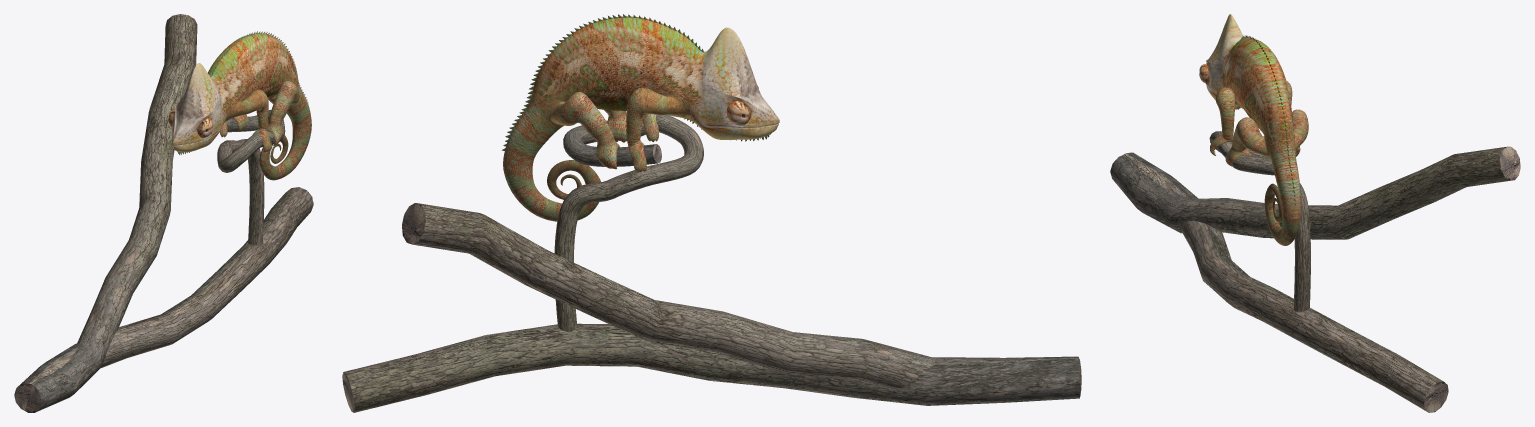
3 renders of one model, left to right at view 1: azimuth 30°, elevation 25°; view 2: azimuth 150°, elevation 25°; view 3: azimuth 270°, elevation 25°, orthographic. The views are drawn at different scales.
Visible parts, largest first — view 1: Branch, Chameleon; view 2: Branch, Chameleon; view 3: Branch, Chameleon.
Boxes of the visible parts, box(x1,y1,x2,y2) form: Branch: box(14, 14, 313, 412); Chameleon: box(168, 31, 311, 180); Branch: box(342, 114, 1081, 412); Chameleon: box(502, 14, 779, 221); Branch: box(1110, 131, 1520, 412); Chameleon: box(1199, 14, 1308, 245).
Bounding box in the file's own units: 296 × 181 × 224.
4 materials, 4 textured.
